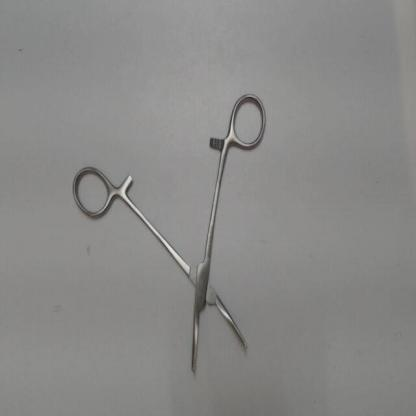Crile Artery Forceps: (68, 87, 270, 382)
